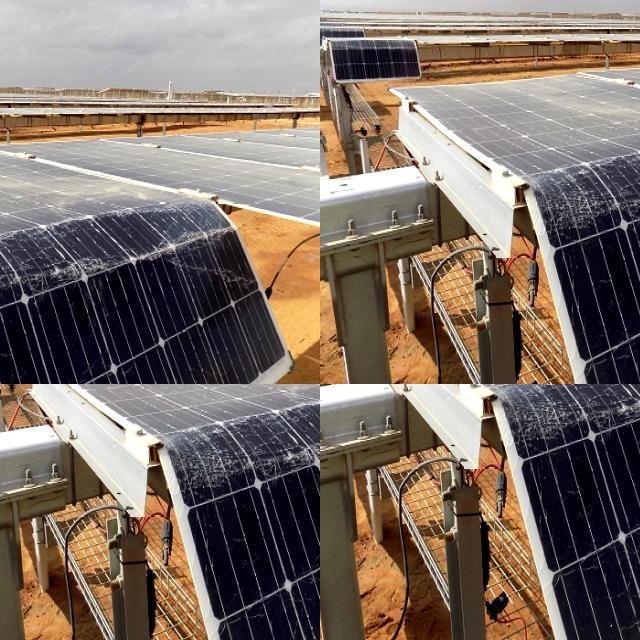hotspot: (477, 384, 640, 578), (88, 384, 139, 427), (79, 384, 153, 401), (146, 384, 183, 413), (156, 384, 193, 404)
shadow: (368, 30, 552, 101), (557, 0, 640, 156), (0, 24, 15, 134), (0, 9, 13, 97), (0, 149, 14, 173), (0, 151, 14, 172)
